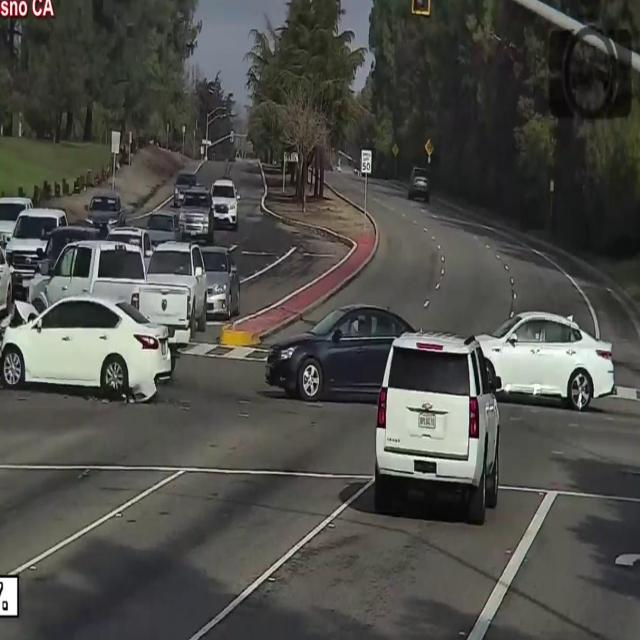accident: (0, 304, 174, 416)
non_accident: (262, 289, 618, 535), (0, 192, 271, 348)
